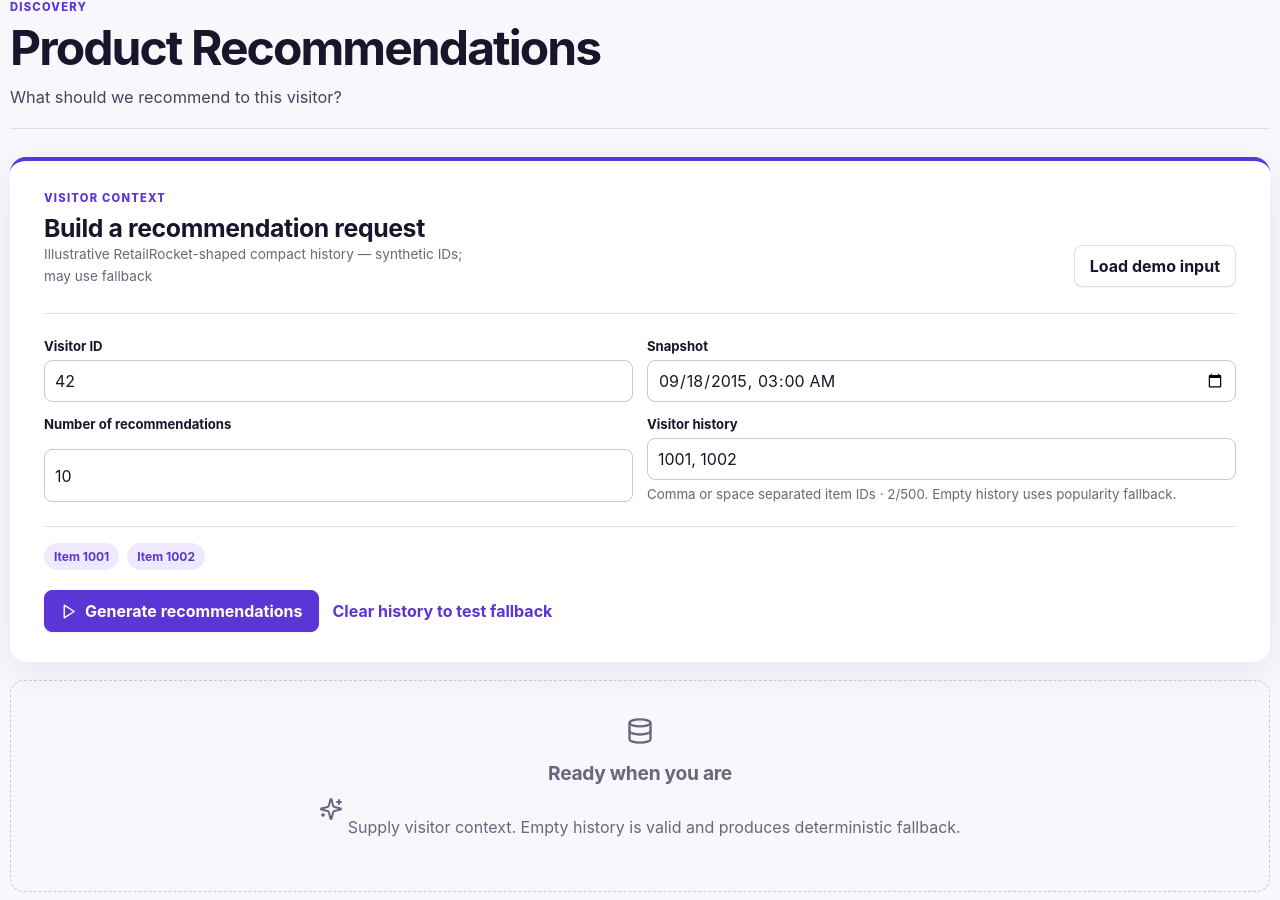
Test case: renders personalized recommendation and seen-item status without catalog fiction
The image size is (1280, 900).
Click the button "Generate recommendations" at (181, 611), box 44,590 -> 318,632
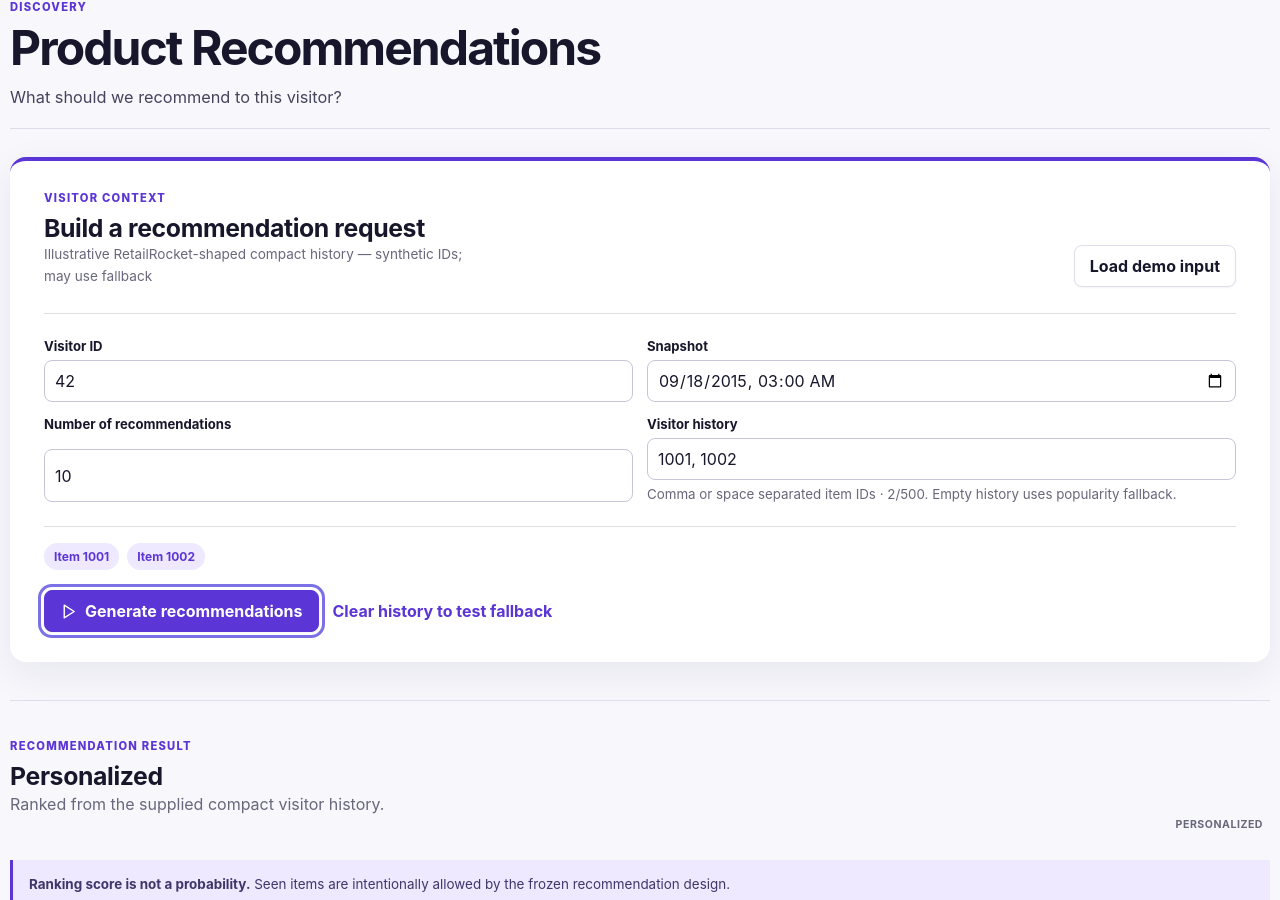
Expected: the text "PERSONALIZED" is shown, 1169,815 -> 1270,834
Expected: the text "Ranking score is not a probability." is shown, 29,876 -> 250,892
